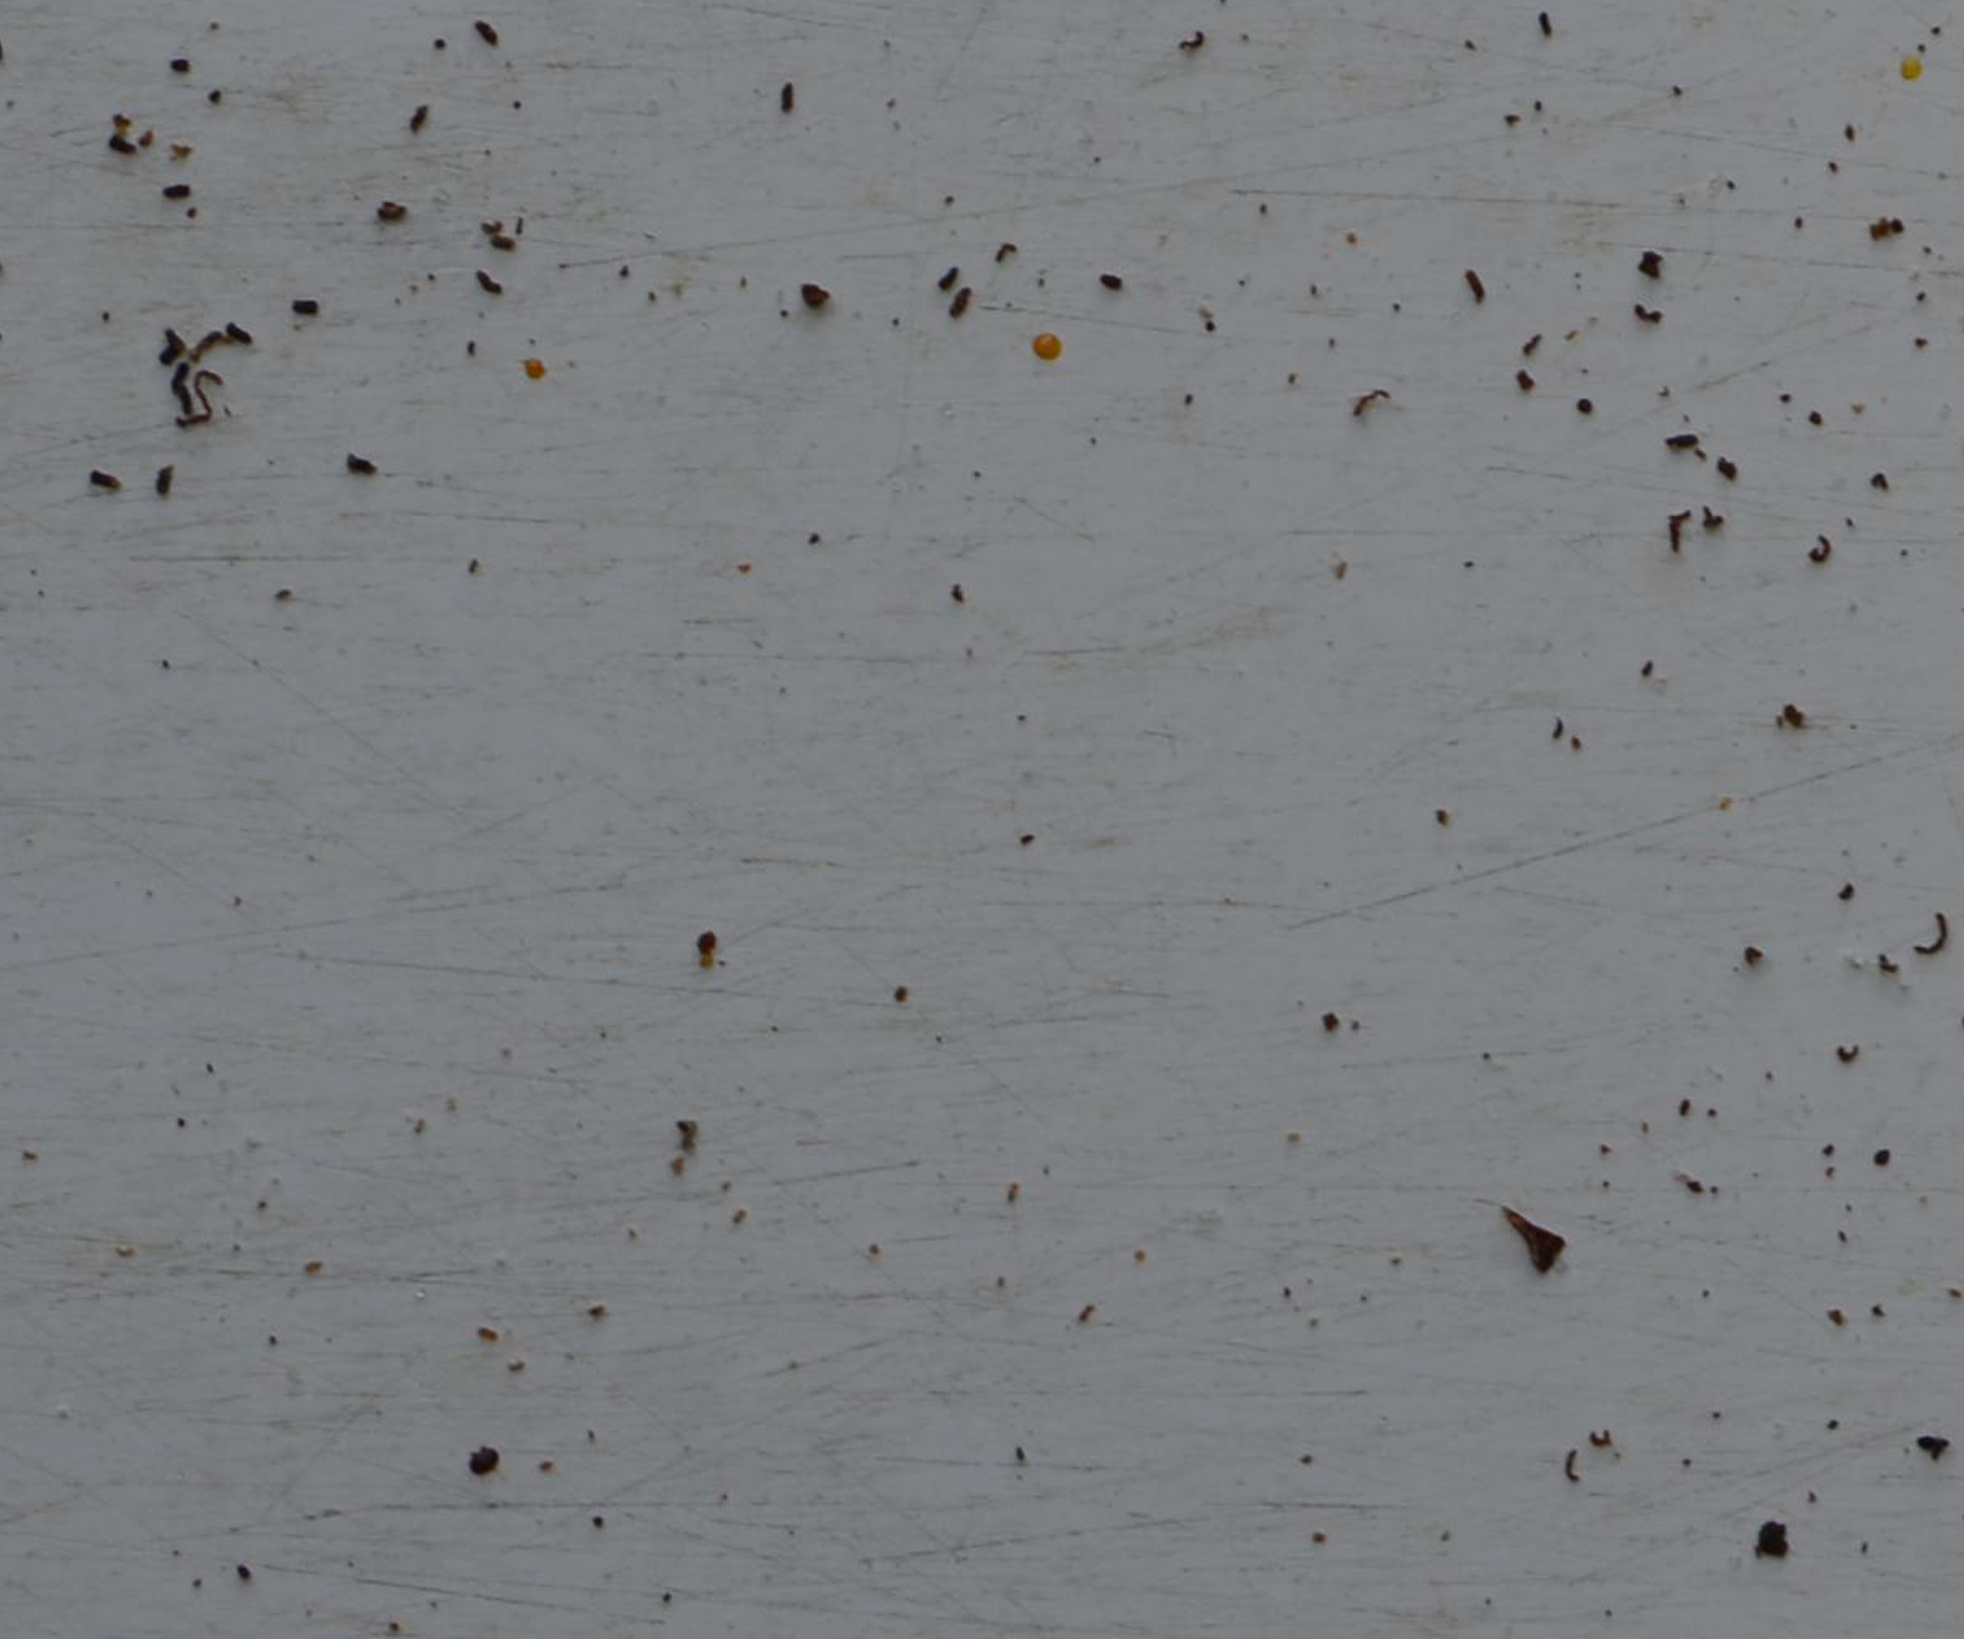Varroa: (465, 1442, 501, 1478)
